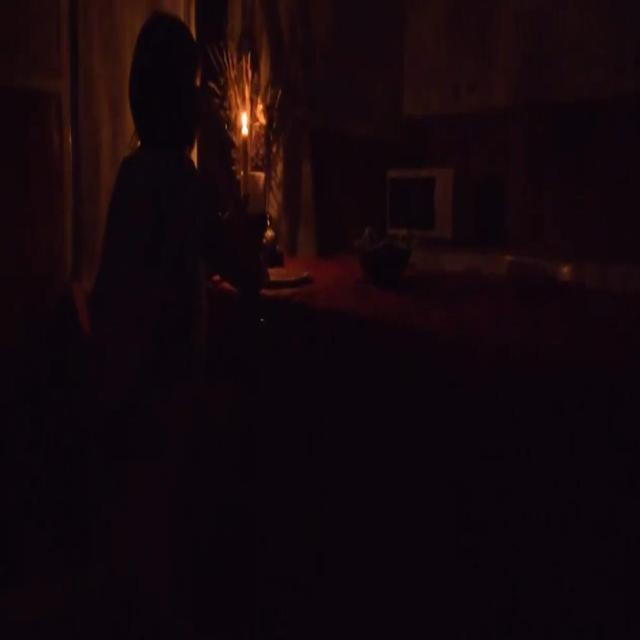smoke: (240, 107, 250, 131)
